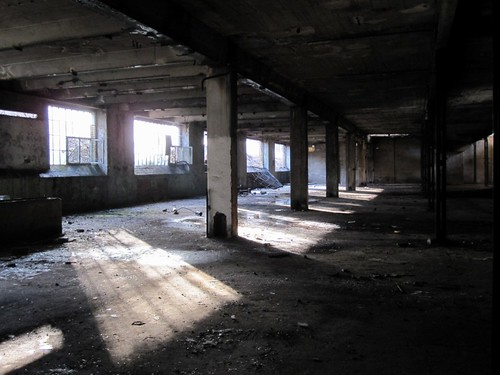collumn: (196, 65, 248, 235), (281, 101, 313, 212), (322, 113, 343, 199), (343, 124, 358, 191)
window: (45, 95, 111, 178), (130, 119, 189, 171)
